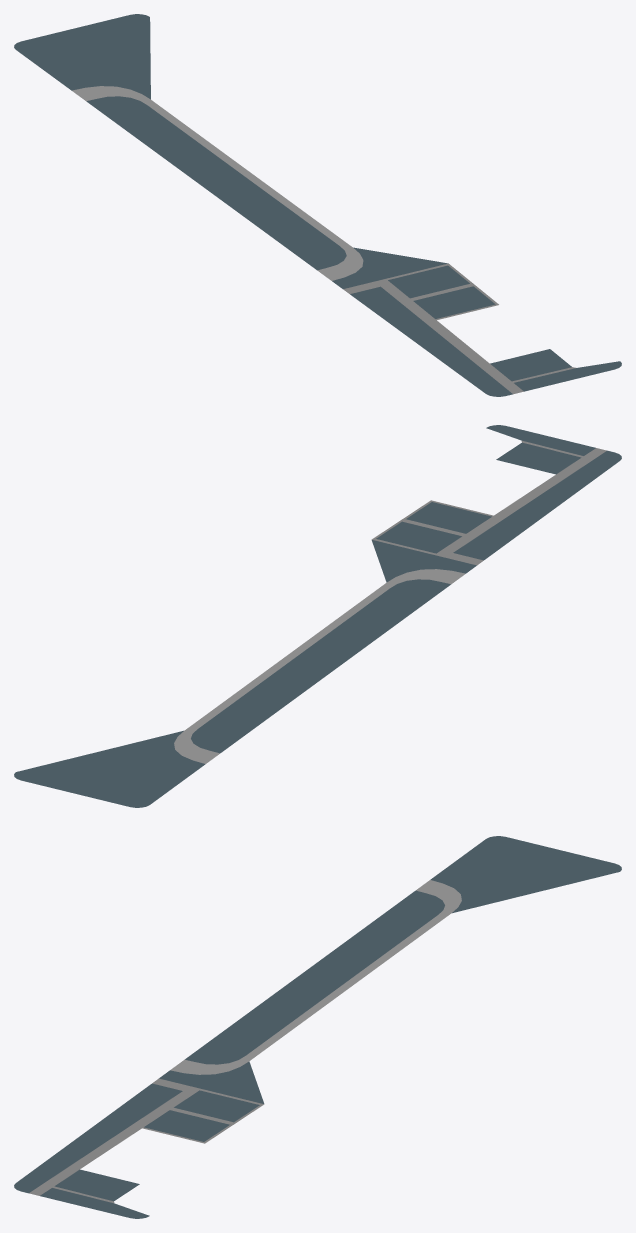
The picture shows the model from 3 angles, top to bottom: view 1: azimuth 30°, elevation 25°; view 2: azimuth 150°, elevation 25°; view 3: azimuth 330°, elevation 25°; orthographic projection.
Visible parts, largest first — view 1: world; view 2: world; view 3: world.
Boxes of the visible parts, bbox=[...] form: world: bbox=[14, 14, 621, 396]; world: bbox=[14, 425, 621, 807]; world: bbox=[14, 836, 621, 1218].
Bounding box in the file's own units: 0.0064 × 0 × 0.04.
